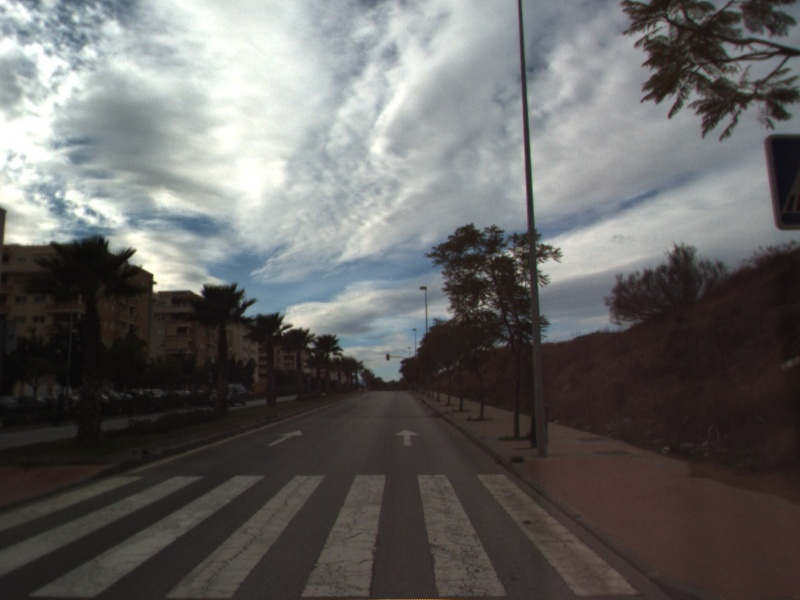STRAIGHT: (266, 427, 305, 448), (393, 427, 422, 448)
